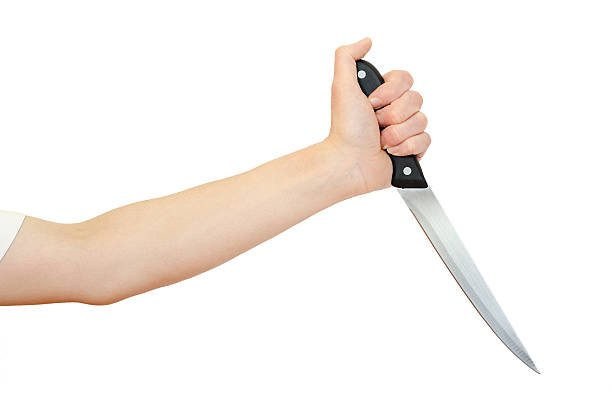knife: (354, 55, 544, 376)
